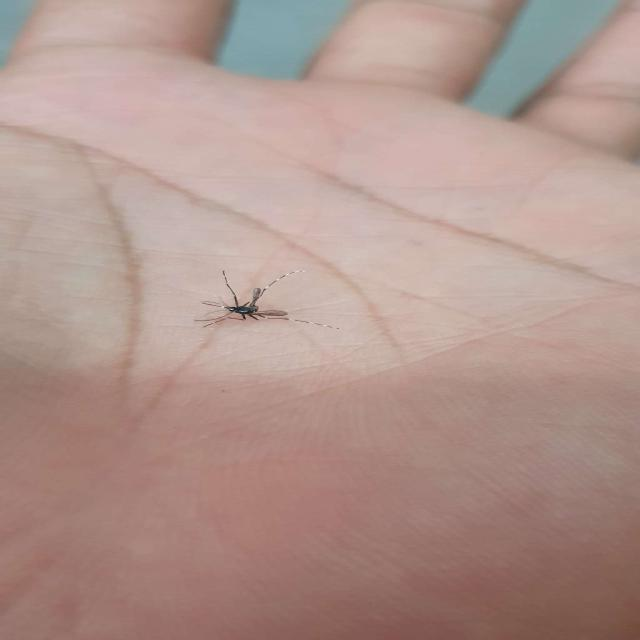albopictus: (185, 266, 331, 331)
